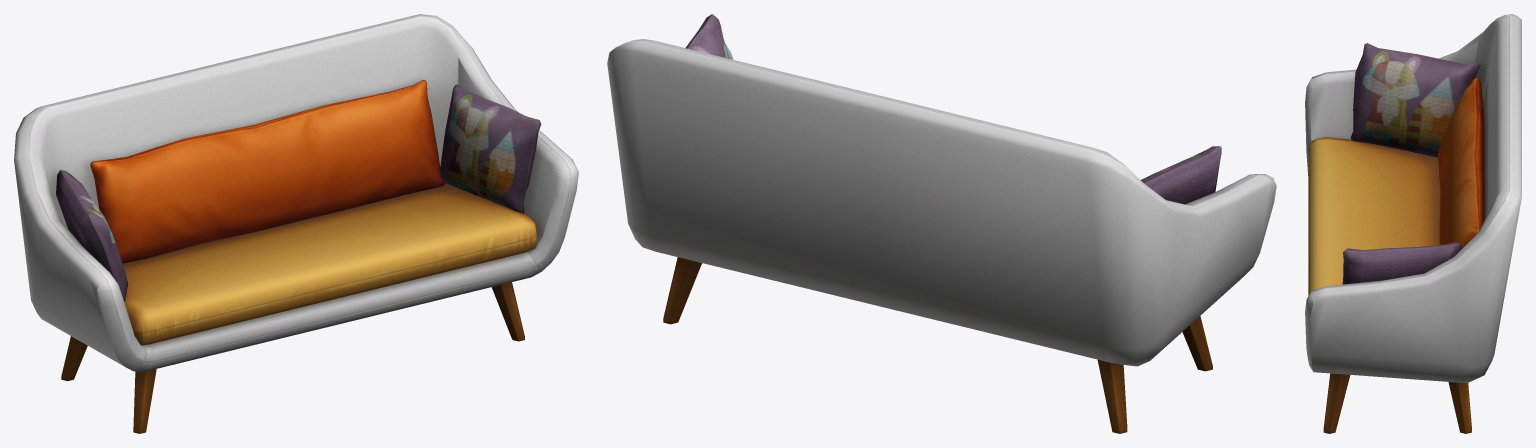
File: LovelyLoveseat.fbx
3 views of the same model, side by side, from view 1: azimuth 30°, elevation 25°; view 2: azimuth 150°, elevation 25°; view 3: azimuth 270°, elevation 25° (orthographic). The views are drawn at different scales.
Parts seen in each view (by area): view 1: TinyLiving_LovelyLoveseat; view 2: TinyLiving_LovelyLoveseat; view 3: TinyLiving_LovelyLoveseat.
Boxes of the visible parts, x1,y1,x2,y2 form: TinyLiving_LovelyLoveseat: [14, 14, 578, 433]; TinyLiving_LovelyLoveseat: [607, 14, 1276, 433]; TinyLiving_LovelyLoveseat: [1305, 14, 1521, 433].
Size of the model in its own units: 183 by 91.25 by 74.84.
